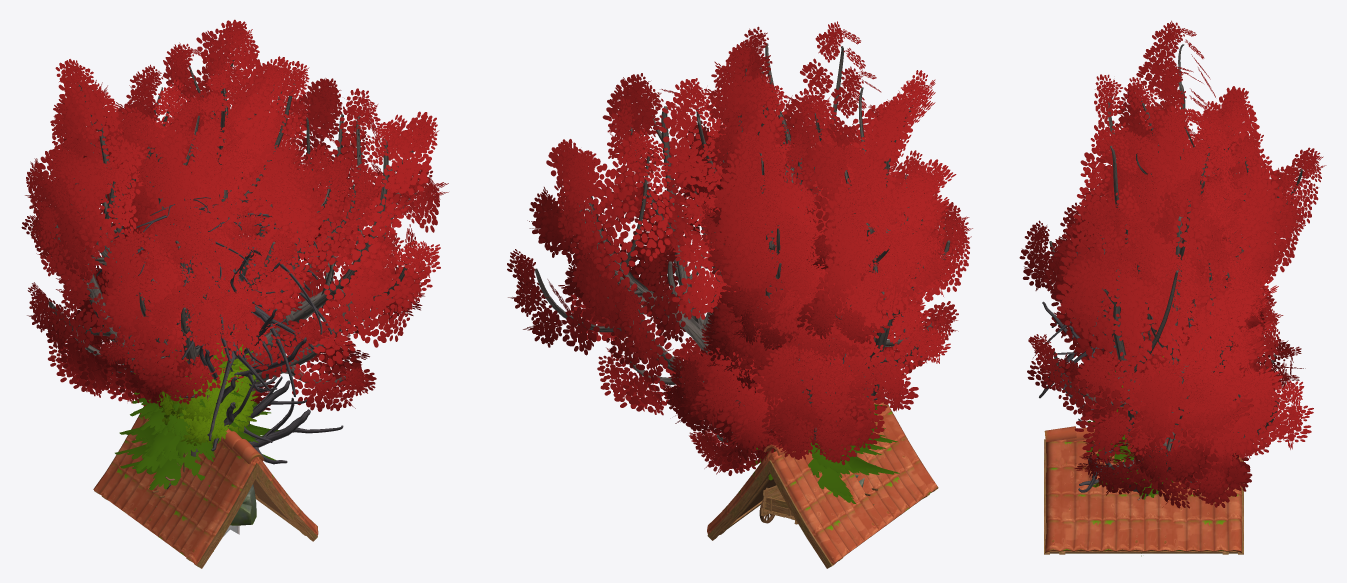
The model's file is cenario.glb.
The picture shows the model from 3 angles, left to right: view 1: azimuth 30°, elevation 25°; view 2: azimuth 150°, elevation 25°; view 3: azimuth 270°, elevation 25°; orthographic projection. The views are drawn at different scales.
Parts seen in each view (by area): view 1: TwistedTree_2, TwistedTree_1, TwistedTree_3, TwistedTree_4, Roof_RoundTiles_4x6, TwistedTree_5, DeadTree_2, DeadTree_4, Pine_4, Pine_2, CommonTree_1, CommonTree_2 (+5 smaller); view 2: TwistedTree_1, TwistedTree_2, TwistedTree_4, TwistedTree_3, Roof_RoundTiles_4x6, TwistedTree_5, Pine_5, Prop_Wagon, Pine_2; view 3: TwistedTree_1, TwistedTree_4, Roof_RoundTiles_4x6, TwistedTree_2, TwistedTree_3, TwistedTree_5, DeadTree_2.
Part boxes in pixels (x1,y1,x2,y2): TwistedTree_2: [21, 59, 309, 456]; TwistedTree_1: [140, 59, 448, 439]; TwistedTree_3: [47, 89, 381, 404]; TwistedTree_4: [63, 19, 354, 410]; Roof_RoundTiles_4x6: [93, 407, 318, 568]; TwistedTree_5: [89, 101, 333, 308]; DeadTree_2: [164, 237, 343, 464]; DeadTree_4: [176, 198, 332, 440]; Pine_4: [119, 374, 259, 480]; Pine_2: [120, 410, 263, 490]; CommonTree_1: [158, 358, 259, 445]; CommonTree_2: [157, 349, 258, 443]; TwistedTree_1: [507, 73, 824, 460]; TwistedTree_2: [701, 21, 971, 422]; TwistedTree_4: [685, 38, 910, 466]; TwistedTree_3: [662, 111, 972, 475]; Roof_RoundTiles_4x6: [707, 384, 938, 568]; TwistedTree_5: [684, 110, 894, 392]; Pine_5: [756, 414, 889, 496]; Prop_Wagon: [759, 485, 797, 524]; Pine_2: [751, 428, 899, 503]; TwistedTree_1: [1027, 169, 1313, 508]; TwistedTree_4: [1041, 85, 1326, 472]; Roof_RoundTiles_4x6: [1044, 426, 1243, 554]; TwistedTree_2: [1056, 20, 1263, 377]; TwistedTree_3: [1019, 159, 1307, 496]; TwistedTree_5: [1070, 152, 1301, 380]; DeadTree_2: [1042, 301, 1129, 492].
Bounding box in the file's own units: 17.96 × 20.87 × 12.13.
Materials: 138 (136 with a texture image).
